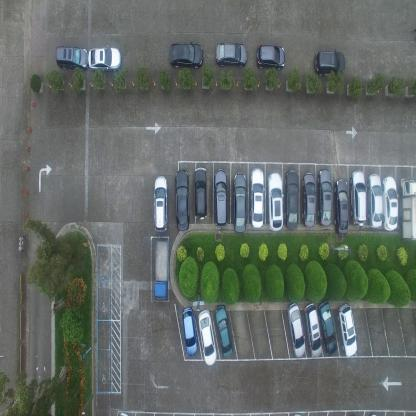car: (286, 302, 306, 360), (318, 299, 338, 355), (338, 302, 358, 358), (198, 309, 217, 366), (303, 302, 322, 359), (400, 176, 416, 242), (266, 172, 284, 230), (168, 39, 203, 68), (154, 239, 170, 302), (215, 304, 234, 356), (175, 168, 190, 231), (152, 175, 168, 234), (88, 45, 122, 72), (54, 43, 88, 70), (382, 175, 399, 229), (350, 169, 366, 226), (213, 168, 228, 228), (367, 172, 383, 228), (214, 40, 247, 67), (316, 167, 331, 226), (233, 170, 247, 233), (250, 166, 264, 228), (284, 169, 298, 229), (301, 172, 316, 228), (313, 48, 345, 74), (334, 178, 348, 236), (255, 42, 285, 69), (182, 306, 198, 356), (194, 165, 207, 221)
